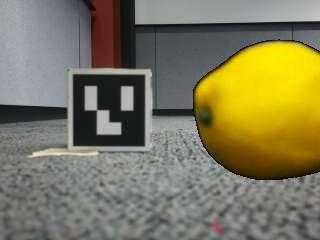lemon: (196, 42, 320, 178)
